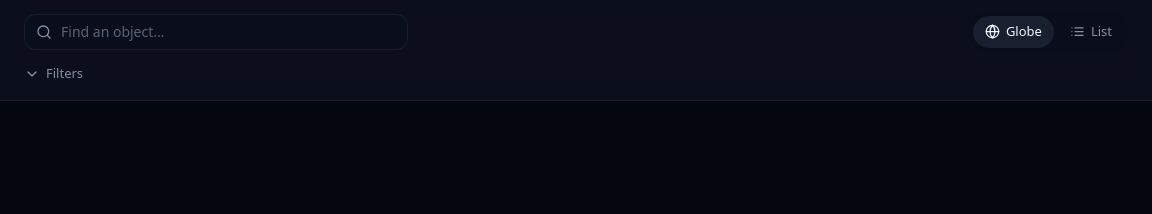
it: SkyToolbar › offers Live data even for the static build path
Click the button "Filters": point(54, 74) [24,64,83,83]
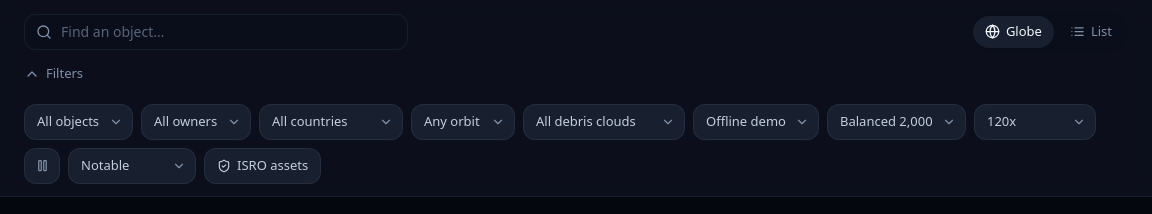
Now the dropdown named "data source" shows "Offline demo", box [693,104,819,140]
